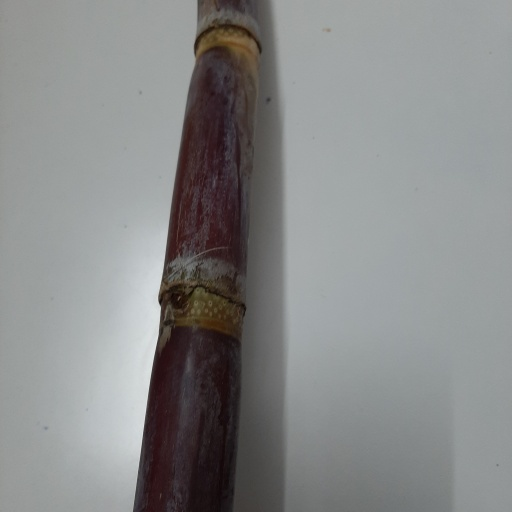Damage_Bud: (170, 289, 188, 311)
